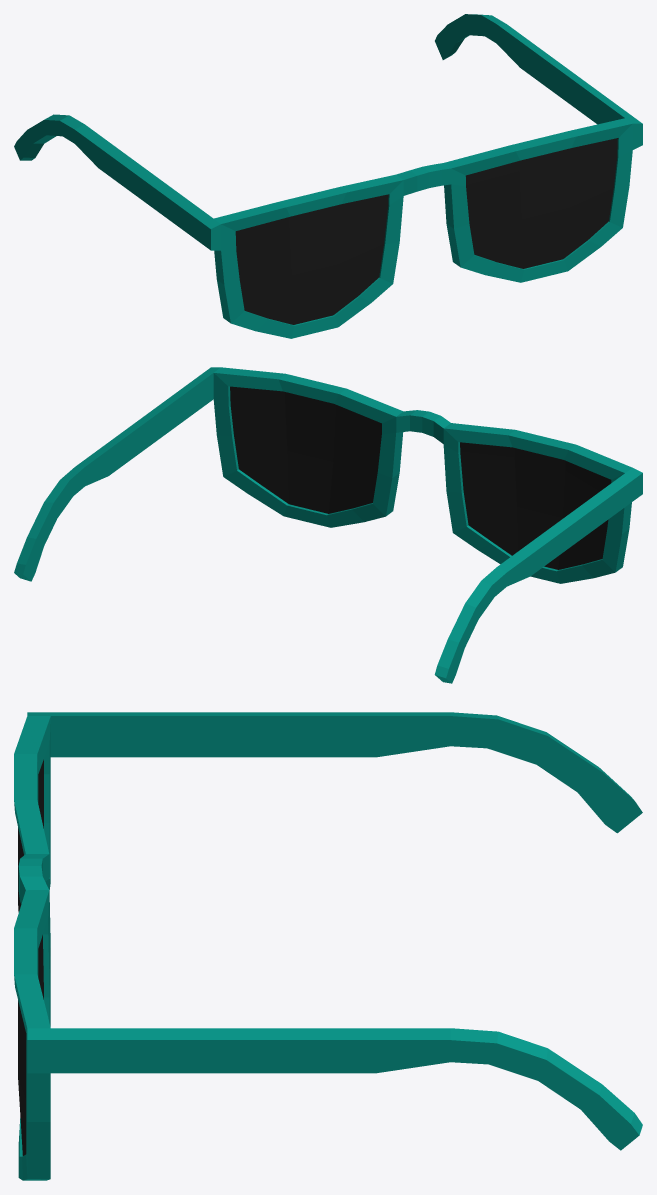
File: Sunglasses.glb
The picture shows the model from 3 angles, top to bottom: view 1: azimuth 30°, elevation 25°; view 2: azimuth 150°, elevation 25°; view 3: azimuth 270°, elevation 25°; orthographic projection. The views are drawn at different scales.
Parts seen in each view (by area): view 1: Sunglasses_01_Plane; view 2: Sunglasses_01_Plane; view 3: Sunglasses_01_Plane.
Part boxes in pixels (x1,y1,x2,y2): Sunglasses_01_Plane: [14, 14, 642, 338]; Sunglasses_01_Plane: [14, 367, 642, 683]; Sunglasses_01_Plane: [14, 712, 642, 1180].
Bounding box in the file's own units: 33.04 × 9.82 × 26.79.
